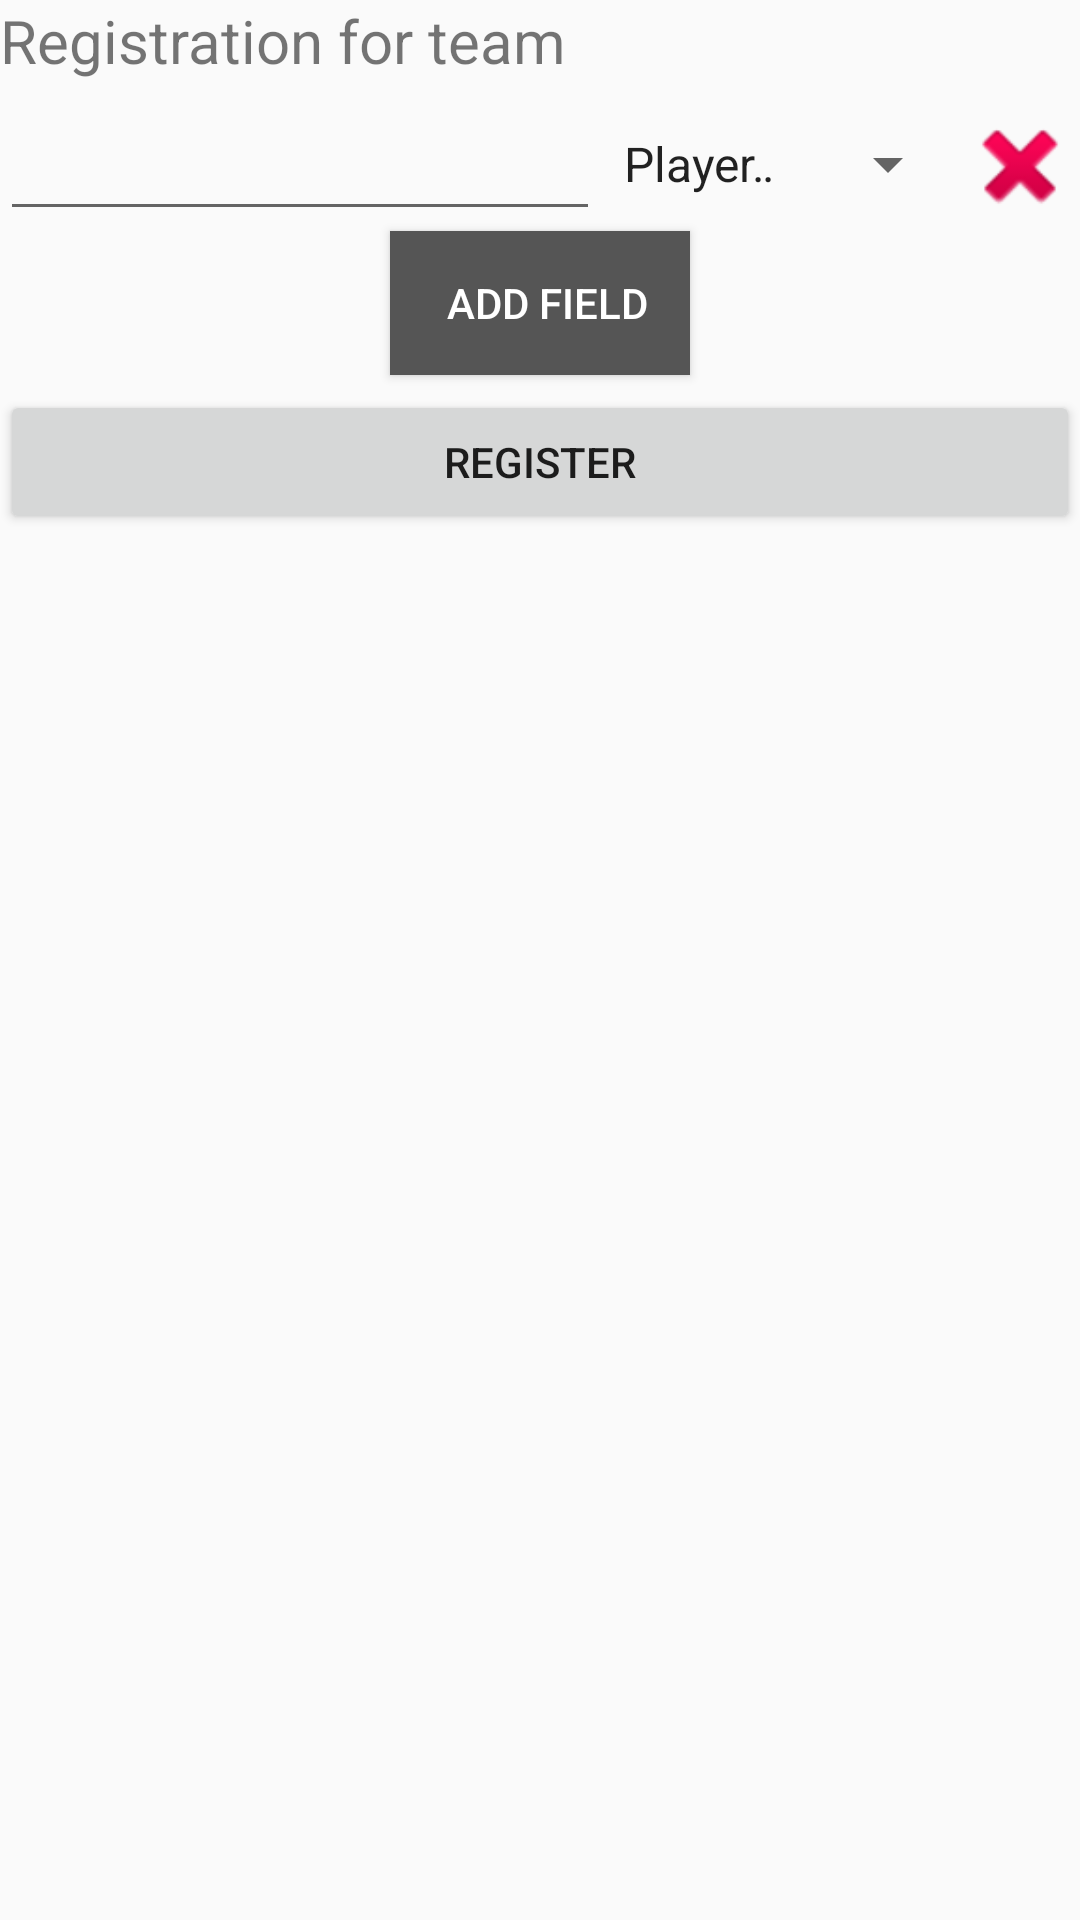

Named icons in this screenshot (1080px×1920px) and their centers, [x,y]:
delete: [1020,167]
